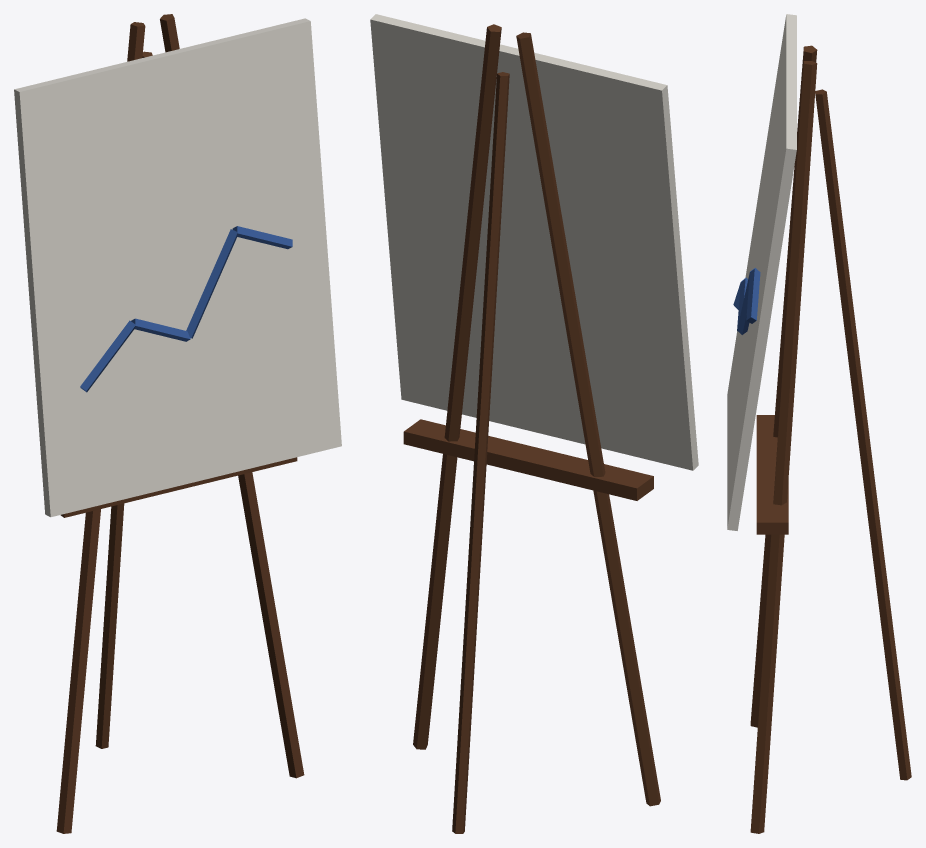
The model's file is station_buffer_ausstattung_2_0.glb.
3 renders of one model, left to right at view 1: azimuth 30°, elevation 25°; view 2: azimuth 150°, elevation 25°; view 3: azimuth 270°, elevation 25°, orthographic. The views are drawn at different scales.
Parts seen in each view (by area): view 1: station_buffer_ausstattung_2_0; view 2: station_buffer_ausstattung_2_0; view 3: station_buffer_ausstattung_2_0.
Part boxes in pixels (bbox=[...]): station_buffer_ausstattung_2_0: bbox=[14, 14, 341, 833]; station_buffer_ausstattung_2_0: bbox=[370, 14, 698, 833]; station_buffer_ausstattung_2_0: bbox=[727, 14, 911, 833].
Bounding box in the file's own units: 0.6 × 1.5 × 0.3475.
